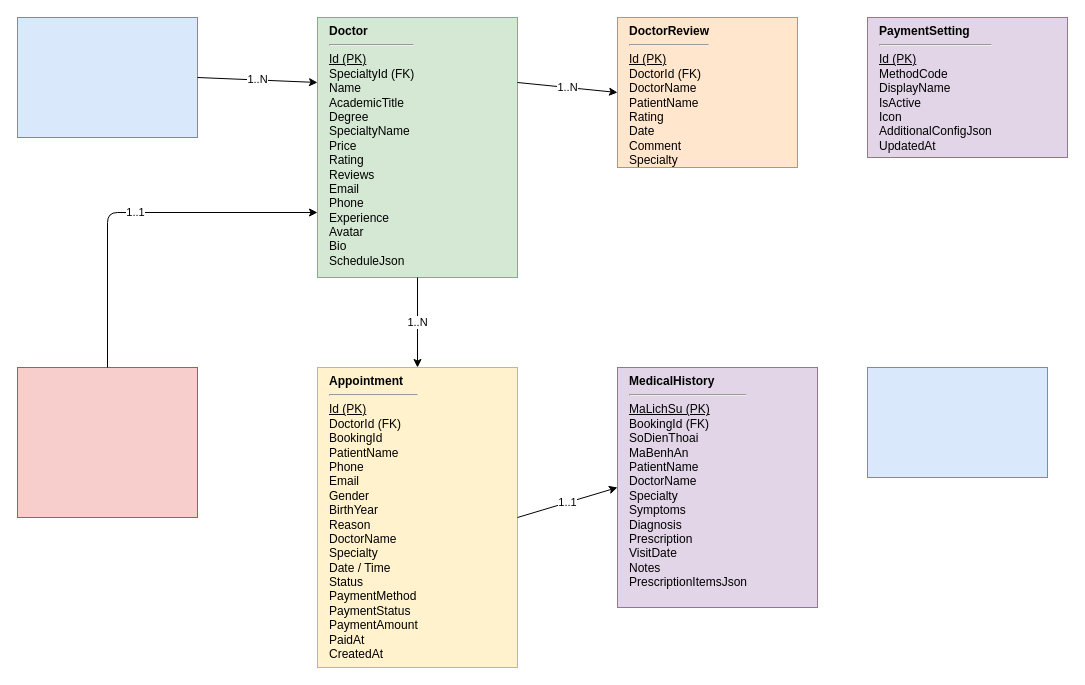
The diagram is 1085 pixels wide and 685 high, and some of its shapes have lost their labels. Here are the shapes that lost their labels. From the top down, the box of each, then its label:
(16, 16, 198, 138): Specialty Id (PK) Name Icon Description DoctorCount
(16, 366, 198, 518): Account Id (PK) DoctorId (FK) Username Password Role Name Avatar CreatedAt
(866, 366, 1048, 478): Medicine Id (PK) Name Ingredients Unit ExpiryDate
